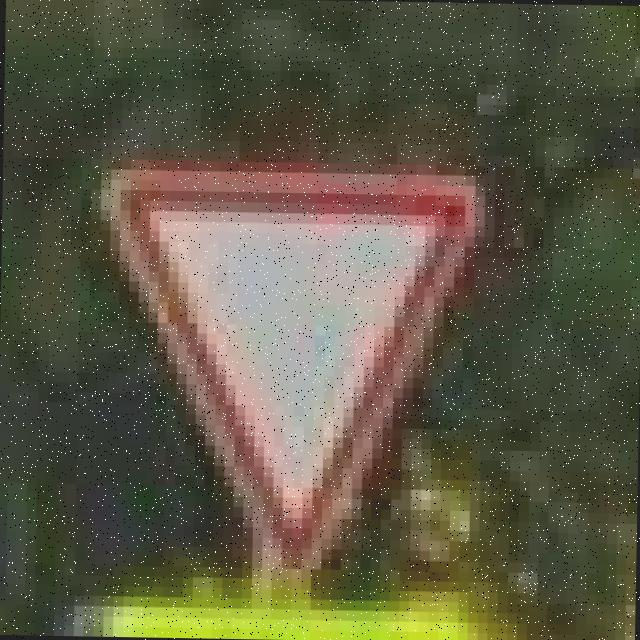Ustap pierwszenstwa: (94, 159, 485, 582)
